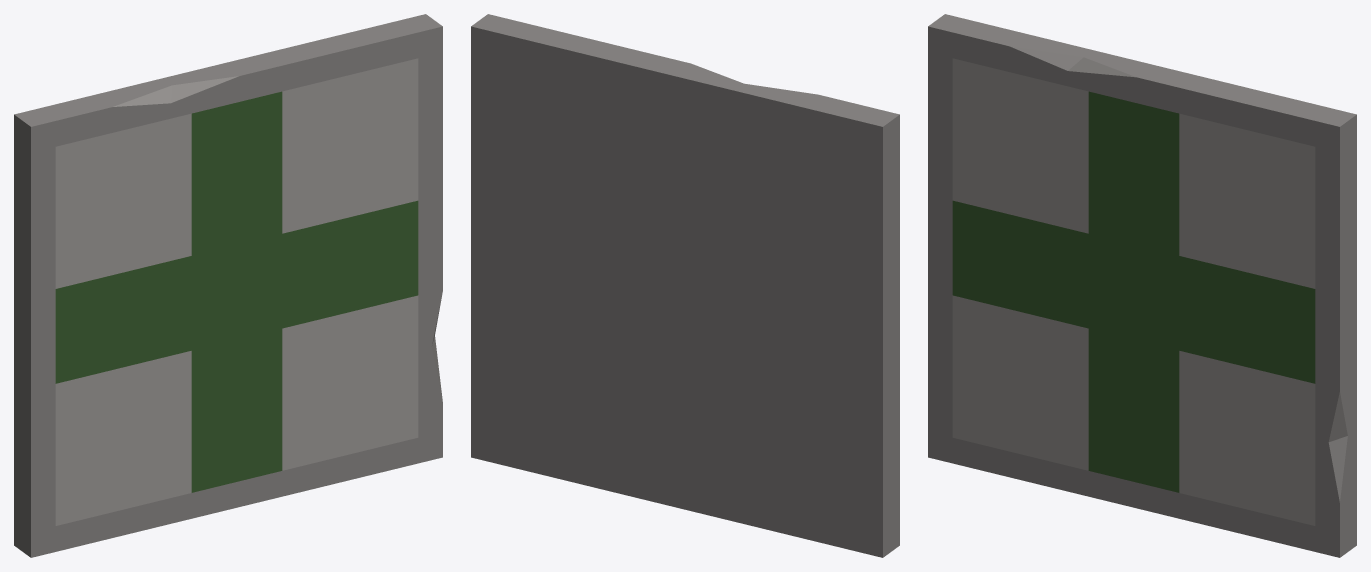
File: SM_Prop_Sign_Medical_01.glb
3 renders of one model, left to right at view 1: azimuth 30°, elevation 25°; view 2: azimuth 150°, elevation 25°; view 3: azimuth 330°, elevation 25°, orthographic.
Visible parts, largest first — view 1: SM_Prop_Sign_Medical_01; view 2: SM_Prop_Sign_Medical_01; view 3: SM_Prop_Sign_Medical_01.
Part boxes in pixels (x1=…): SM_Prop_Sign_Medical_01: x1=14, y1=14, x2=442, y2=557; SM_Prop_Sign_Medical_01: x1=471, y1=14, x2=899, y2=557; SM_Prop_Sign_Medical_01: x1=928, y1=14, x2=1356, y2=557.
Size of the model in its own units: 0.5023 by 0.5023 by 0.0359.
1 material, 1 textured.
